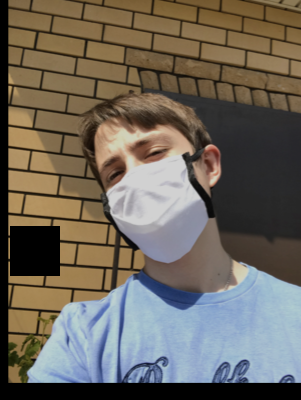with_mask: (93, 131, 220, 262)
